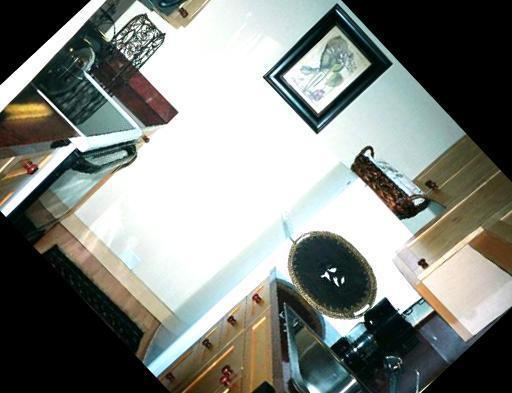Electrodomestico: (0, 95, 148, 246), (209, 378, 329, 393)
Lavaplatos: (243, 270, 426, 393)
